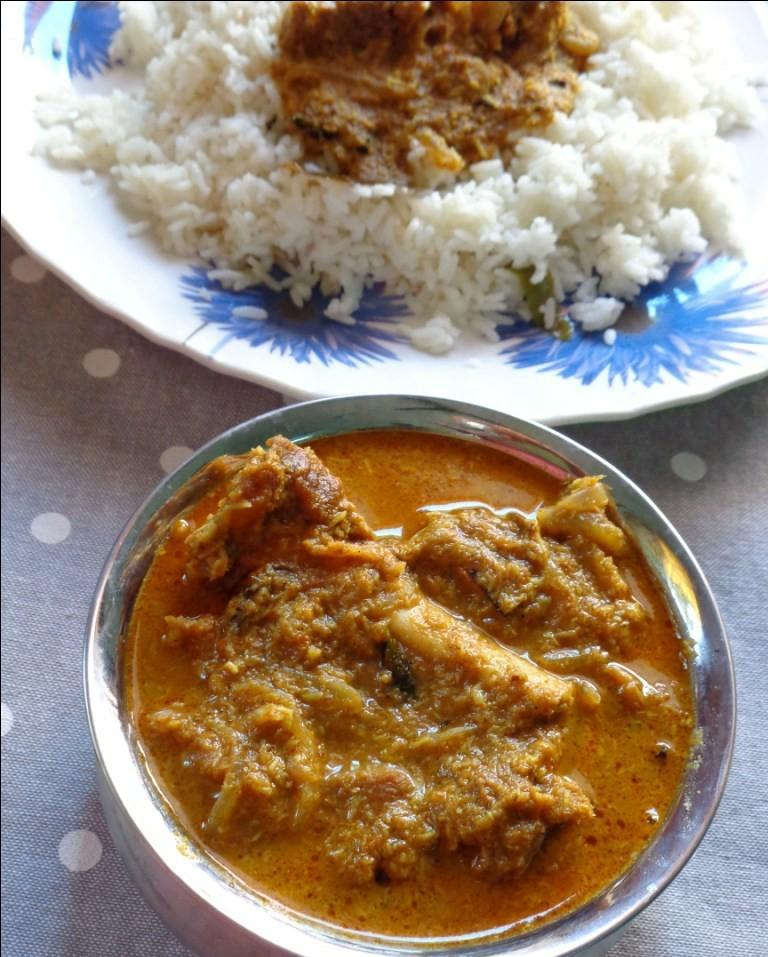MuttonCurry: (123, 428, 686, 939)
WhiteRice: (31, 0, 768, 349)
